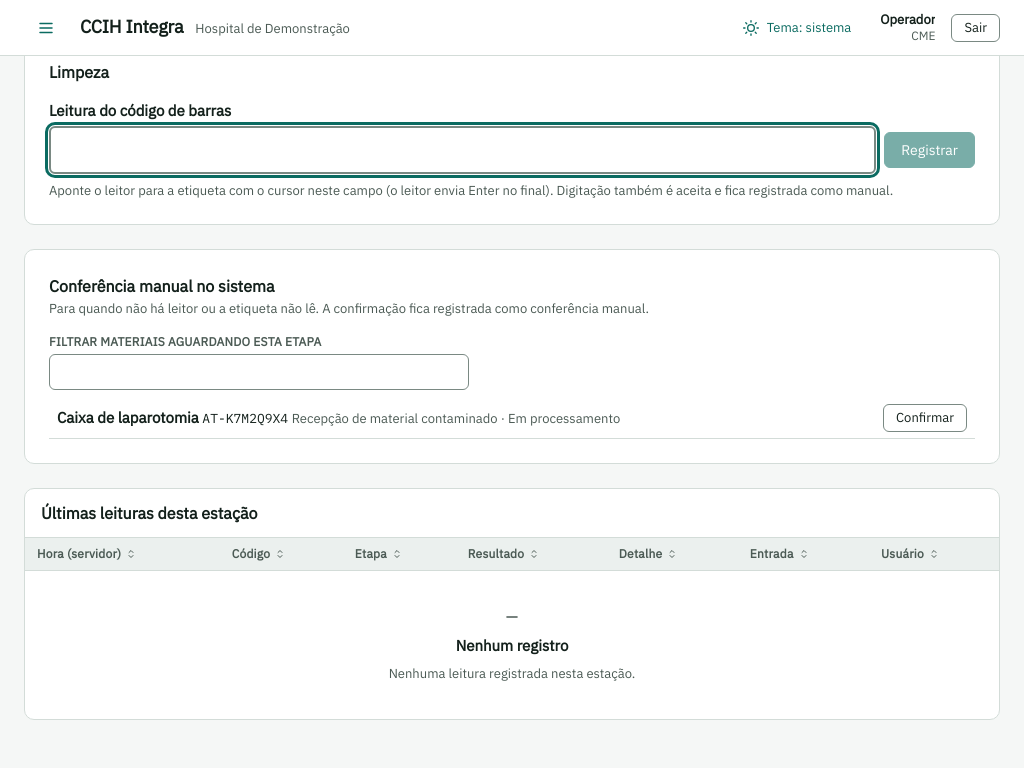
Test: reading station › after a manual conference, offers to continue at the next step when this station handles it
The width and height of the screenshot is (1024, 768).
(page scrolled)
Click the button with aria-label "Confirmar Caixa de laparotomia AT-K7M2Q9X4": x=925, y=418 [883,404,967,432]
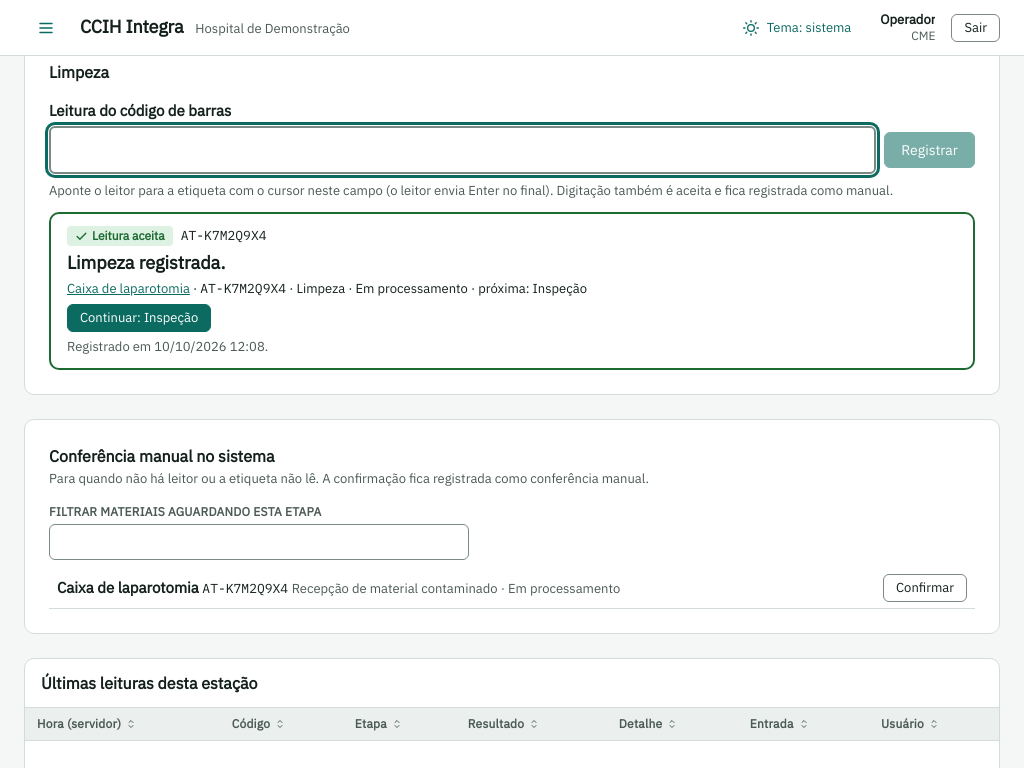
Click the button "Continuar: Inspeção": x=139, y=318 [67,304,211,332]
(page scrolled)
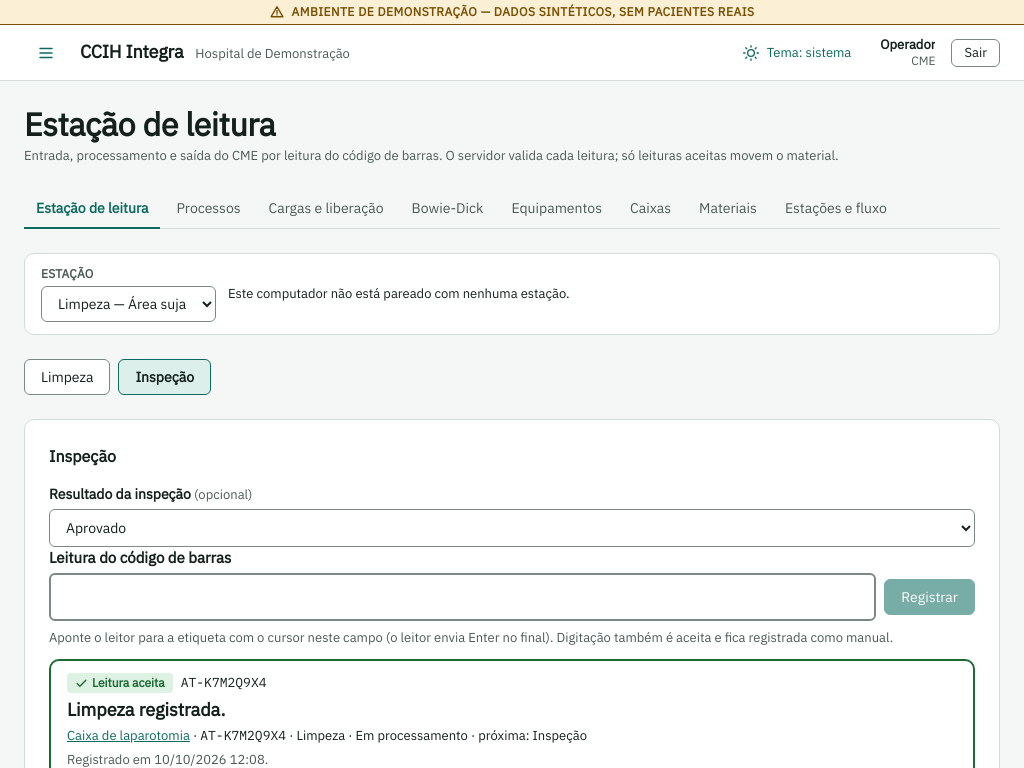
Expected: the button "Inspeção" is shown, [118,359,211,395]
Now the button "Continuar: Inspeção" is gone
